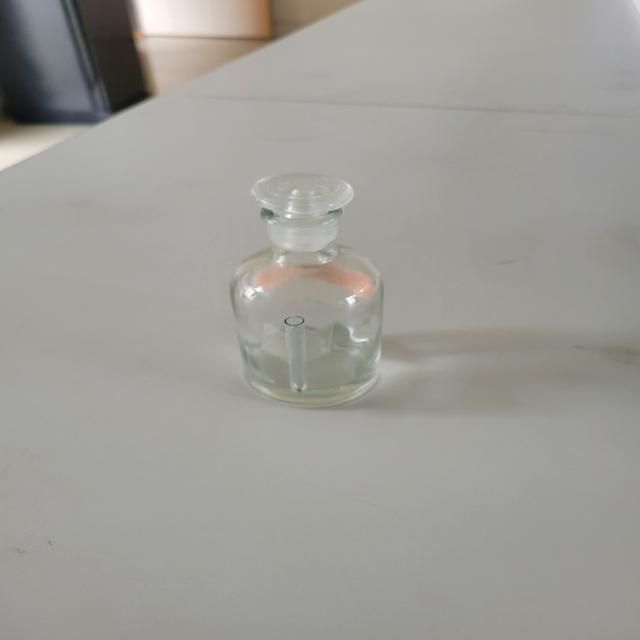Reagent_Bottle: (174, 154, 458, 430)
